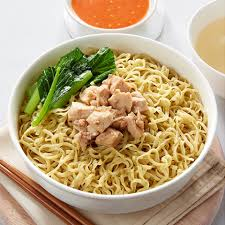Mie ayam: (12, 42, 212, 194)
